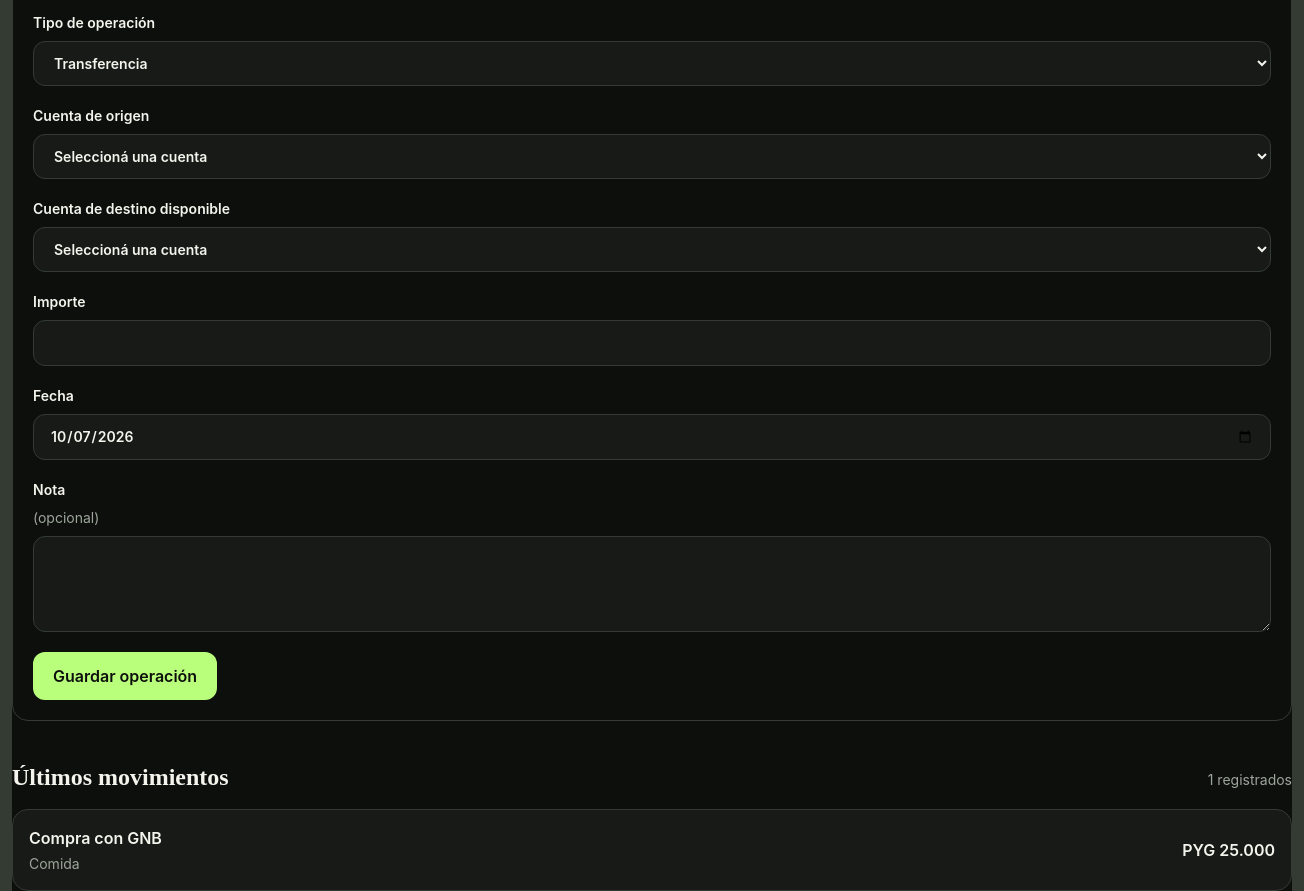
Test: MovementsContent › renders transaction detail items and a valid initial operation type
The image size is (1304, 891).
(page scrolled)
Expected: the dropdown labelled "Tipo de operación" shows "Transferencia", [33,41,1271,86]
Click the text "Compra con GNB" at (95, 838), box [29,826,162,850]
(page scrolled)
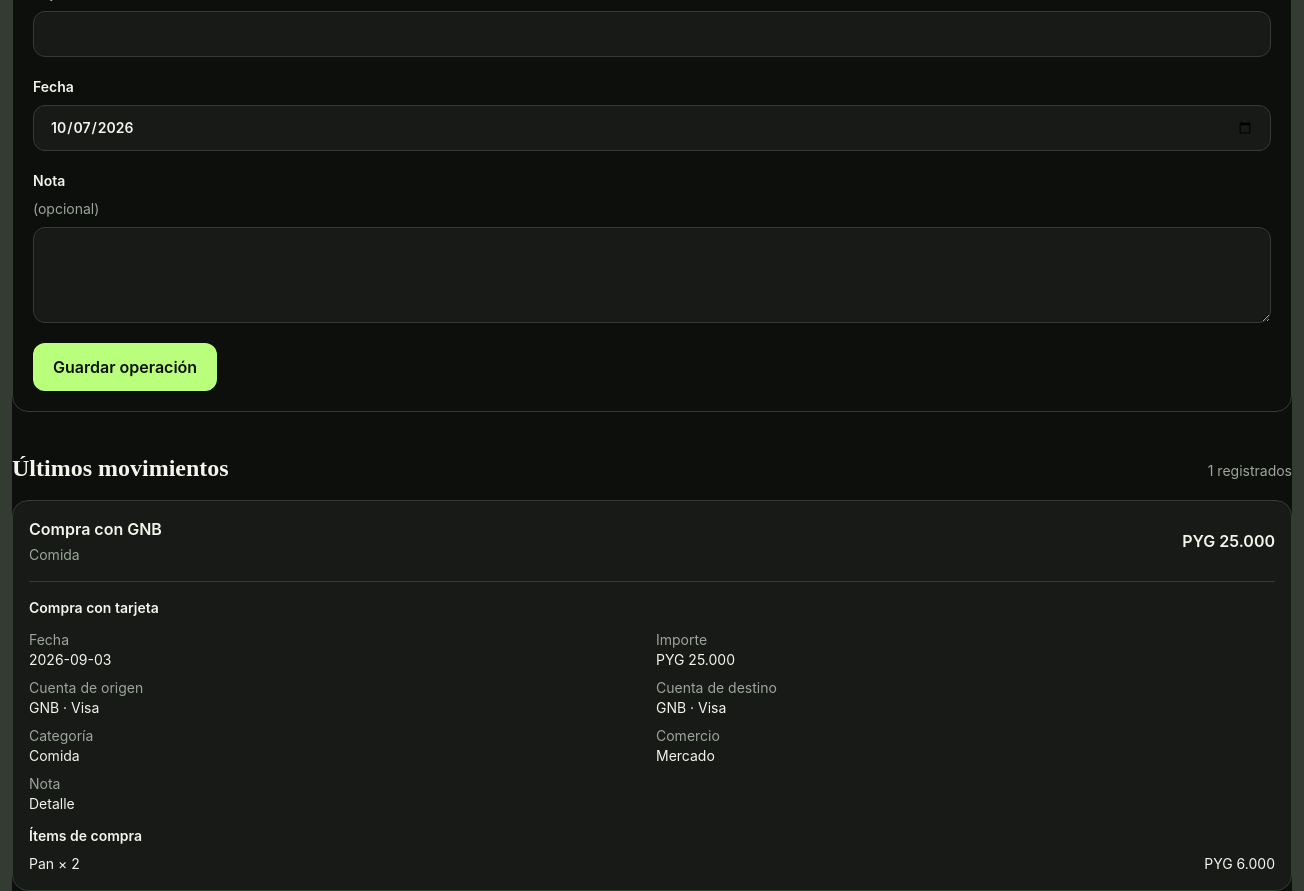
Result: the text "Pan × 2" is shown at [29,854,80,874]
Result: the text "Mercado" is shown at [656,747,715,764]
